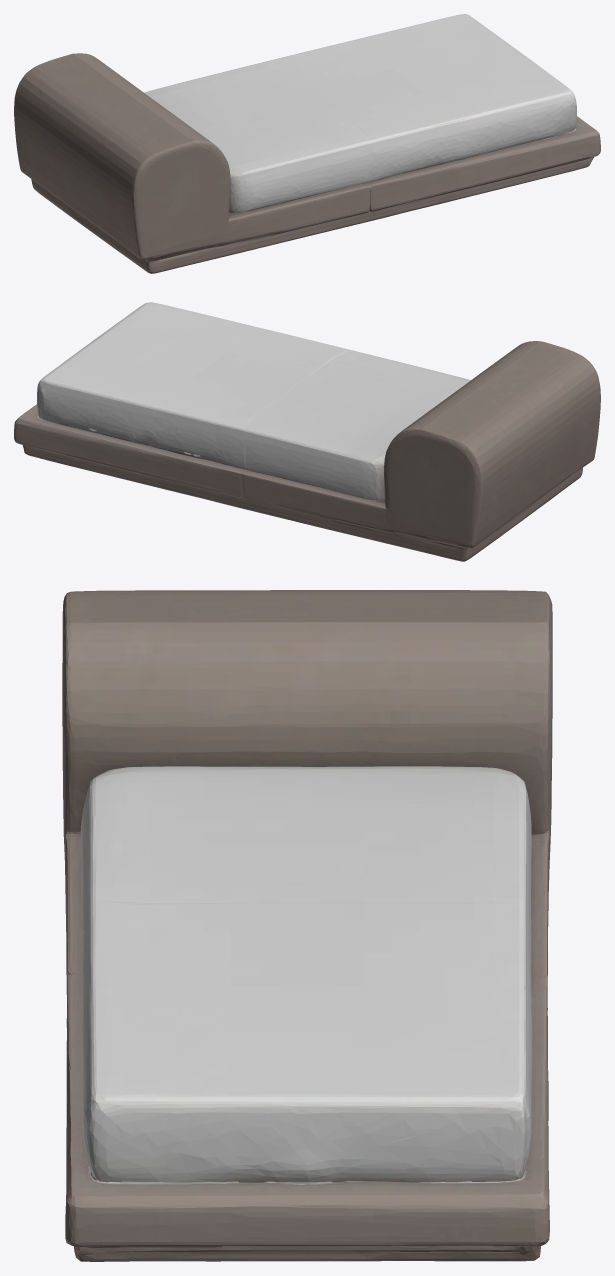
The model's file is bbc750a2-8f64-4641-84fc-dc7ba12902ef.glb.
The picture shows the model from 3 angles, top to bottom: view 1: azimuth 30°, elevation 25°; view 2: azimuth 150°, elevation 25°; view 3: azimuth 270°, elevation 25°; orthographic projection. The views are drawn at different scales.
Parts seen in each view (by area): view 1: world; view 2: world; view 3: world.
Part boxes in pixels (x1,y1,x2,y2): world: (14,14,600,273); world: (14,302,600,561); world: (62,590,552,1261).
Bounding box in the file's own units: 0.999 × 0.2557 × 0.4515.
1 material, 1 textured.
